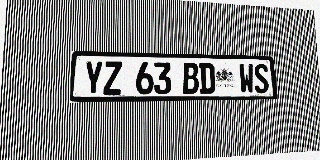3: (154, 62, 171, 94)
6: (136, 62, 154, 94)
B: (182, 63, 199, 94)
D: (199, 63, 215, 94)
S: (254, 64, 269, 93)
W: (239, 64, 255, 93)
Y: (84, 61, 103, 95)
Z: (103, 61, 122, 95)
